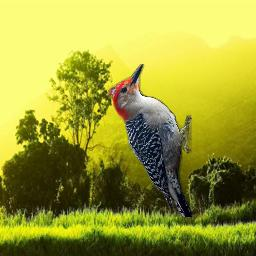Woodpecker: (108, 64, 192, 217)
